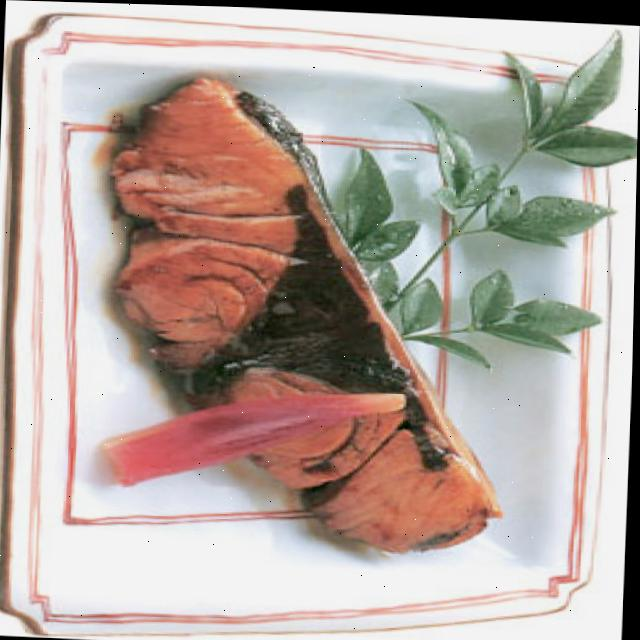熟制海鲜: (71, 40, 523, 576)
